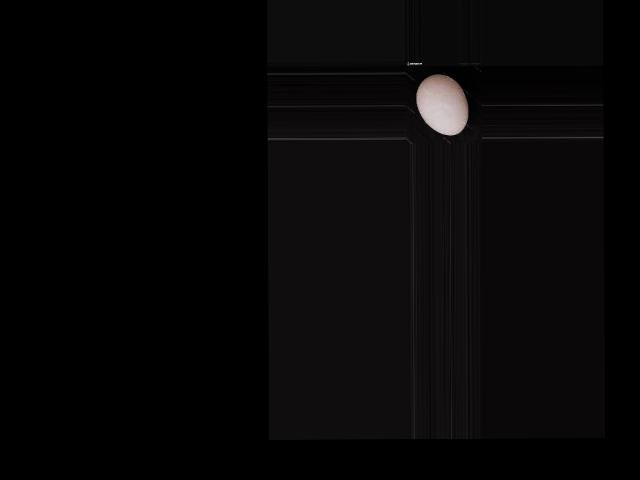egg: (416, 73, 468, 135)
